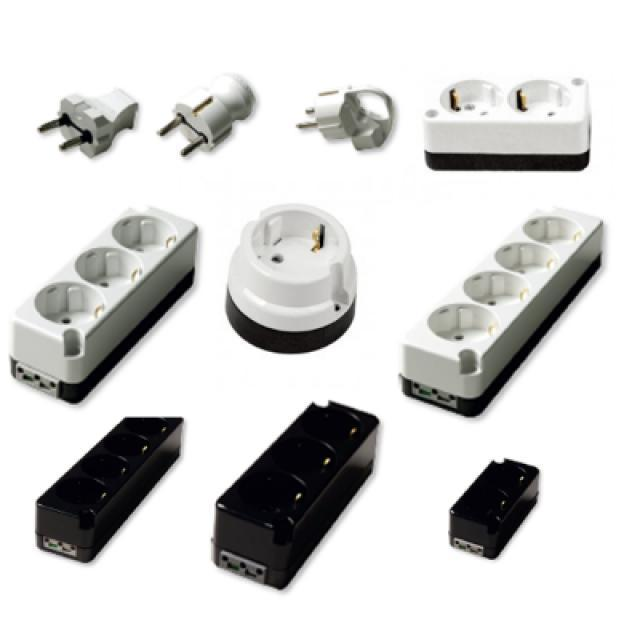typeb: (3, 180, 226, 408), (410, 201, 605, 393), (227, 175, 372, 396), (421, 60, 615, 176)
